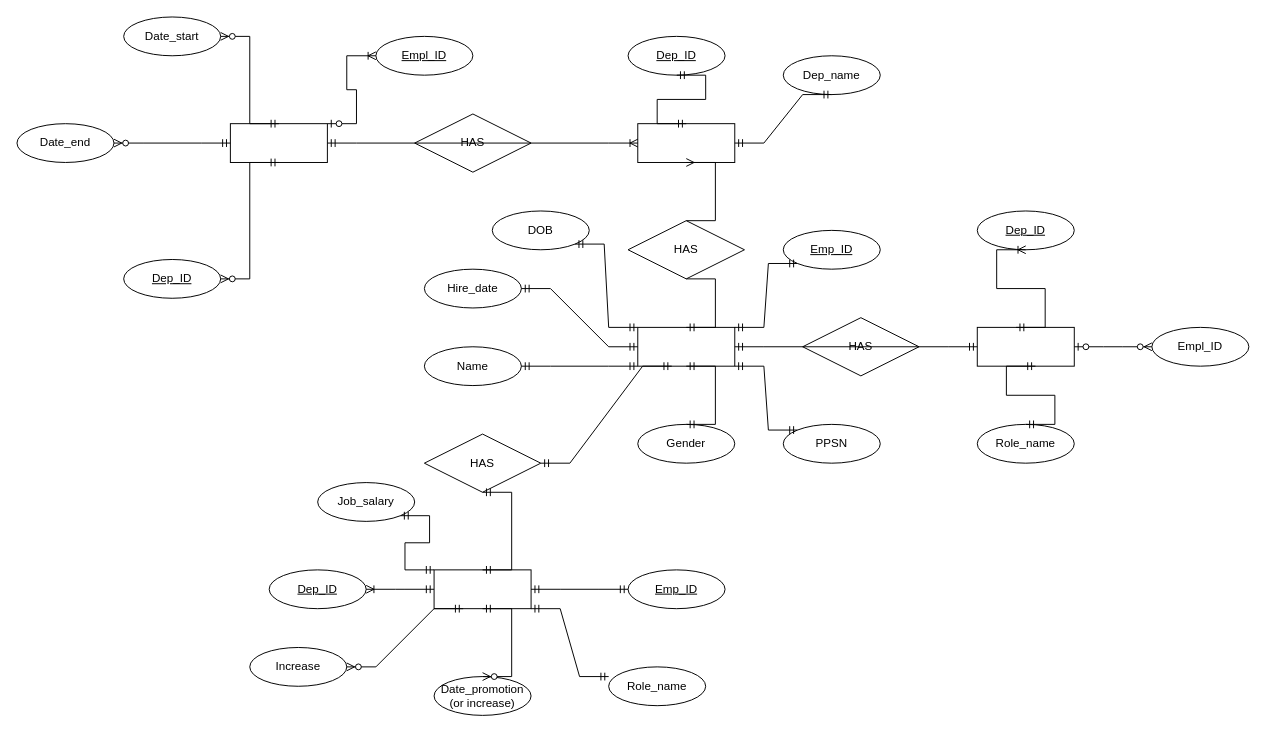
Image size: 1266x732. Some labels were removed from this diagram. The shapes that lost their labels are listed below. From the top down, each one's box as (x1, y1, x2, y2) in pixels, then its label:
(229, 123, 327, 162): DEP_MANAGER
(637, 123, 735, 162): DEPARTMENT
(637, 326, 735, 366): EMPLOYEE
(976, 326, 1074, 366): ROLE
(433, 569, 531, 609): EMPL_SALARY
